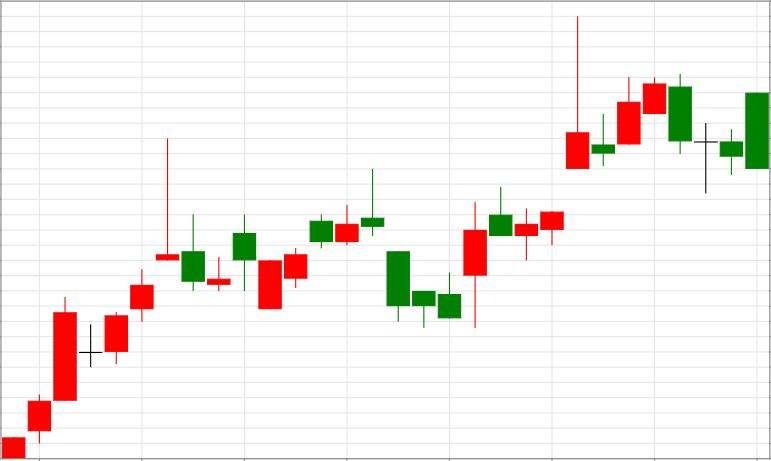shooting_star_fall: (464, 18, 589, 328)
